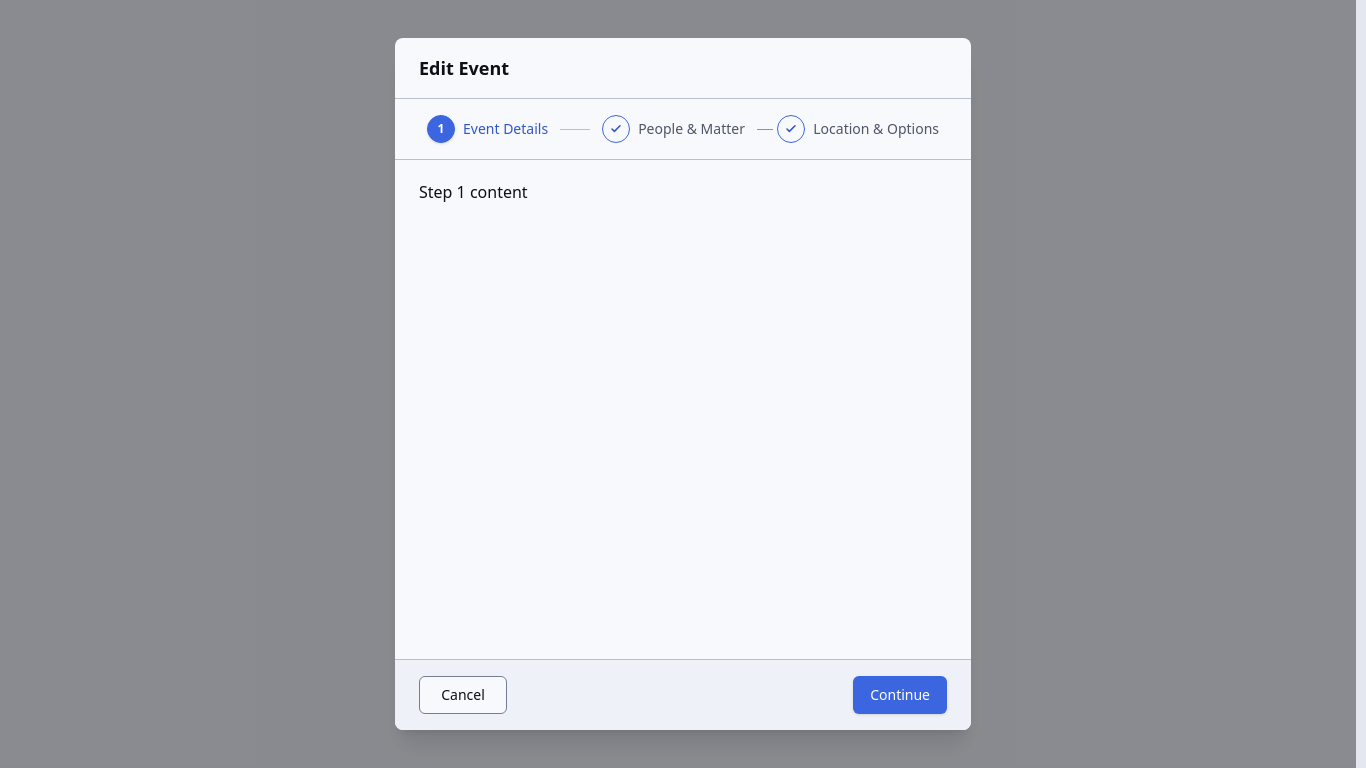
Scenario: EventFormWizard › lets an existing event jump directly to any stage
Click the button with aria-label "Location & Options, step 3 of 3, completed" at (858, 129), box 777,115 -> 939,143
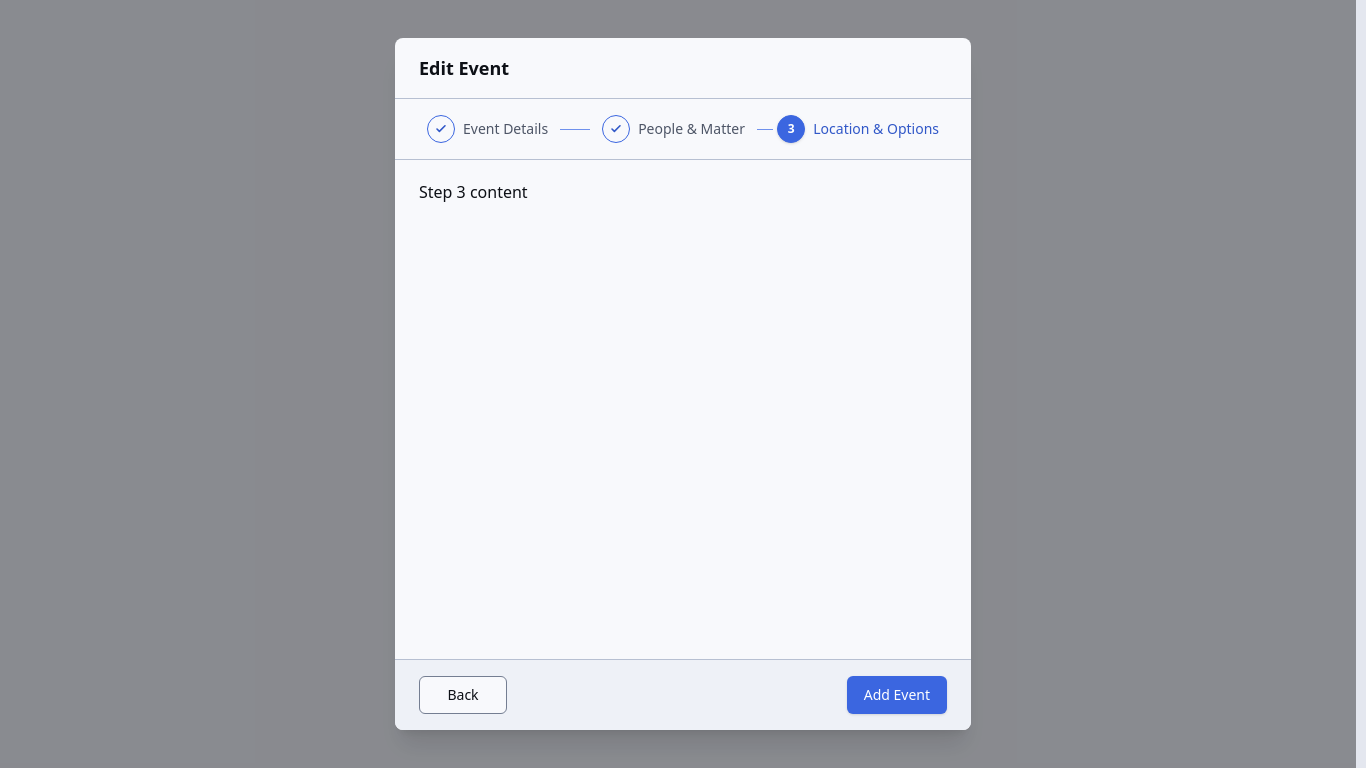
Check: the text "Step 3 content" is shown, box 419,181 -> 528,203
